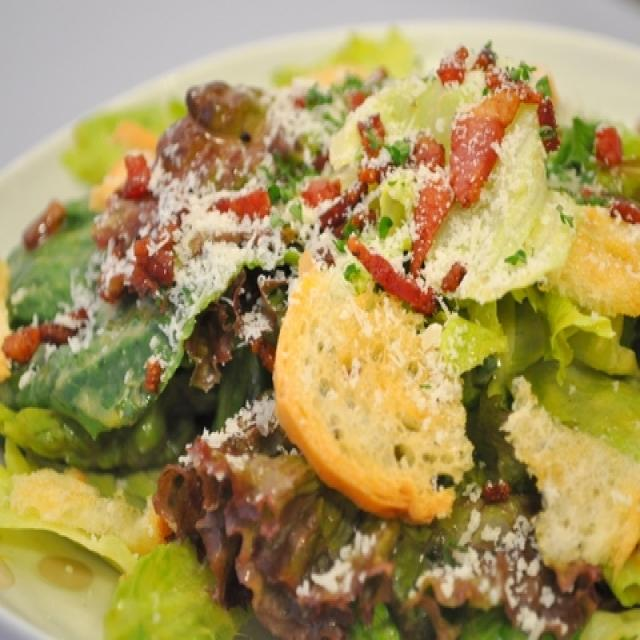蔬菜料理: (18, 27, 626, 624)
